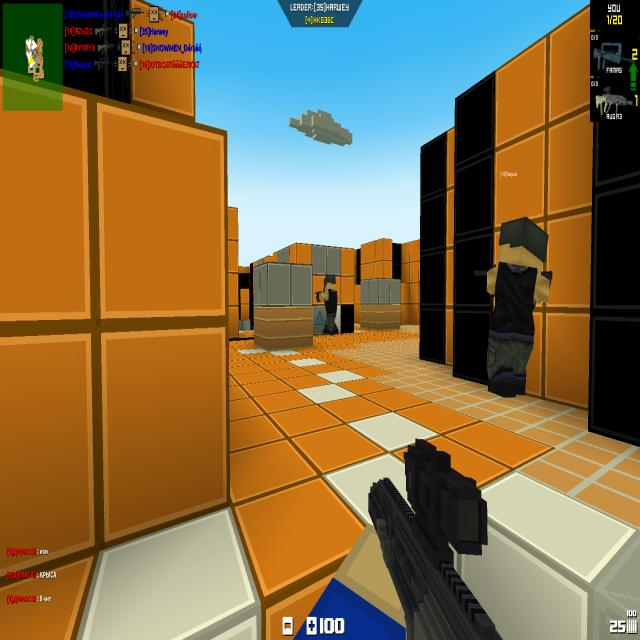enemy: (314, 273, 340, 336)
